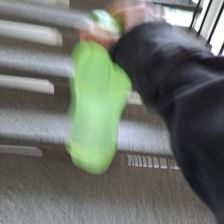bottle: (67, 8, 132, 178)
